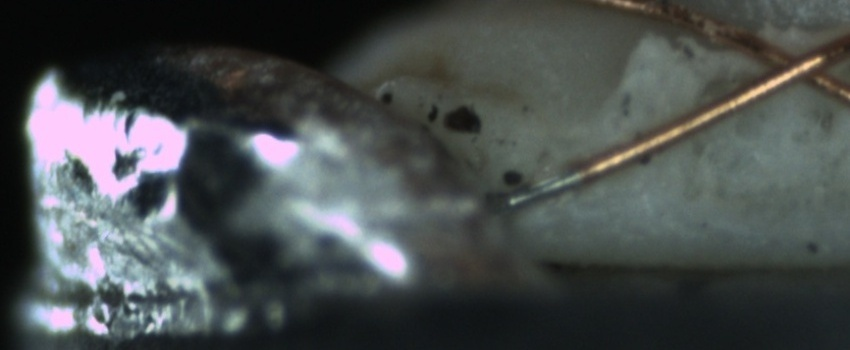CL: (739, 27, 845, 100)
TS: (502, 169, 579, 215)
